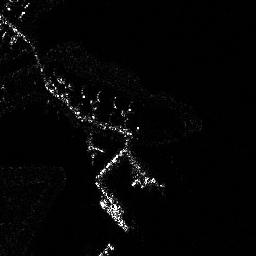ship: (98, 198, 129, 233)
